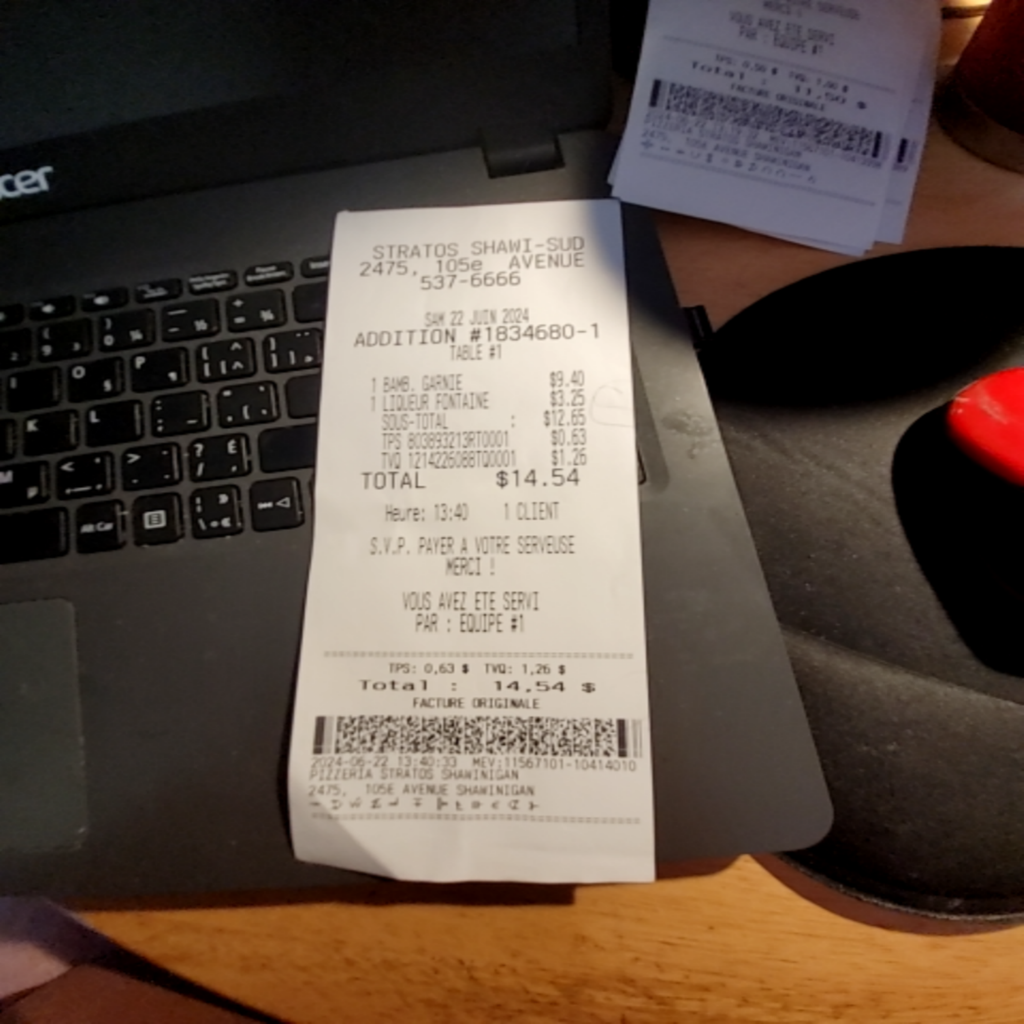recipt: (288, 201, 659, 879)
